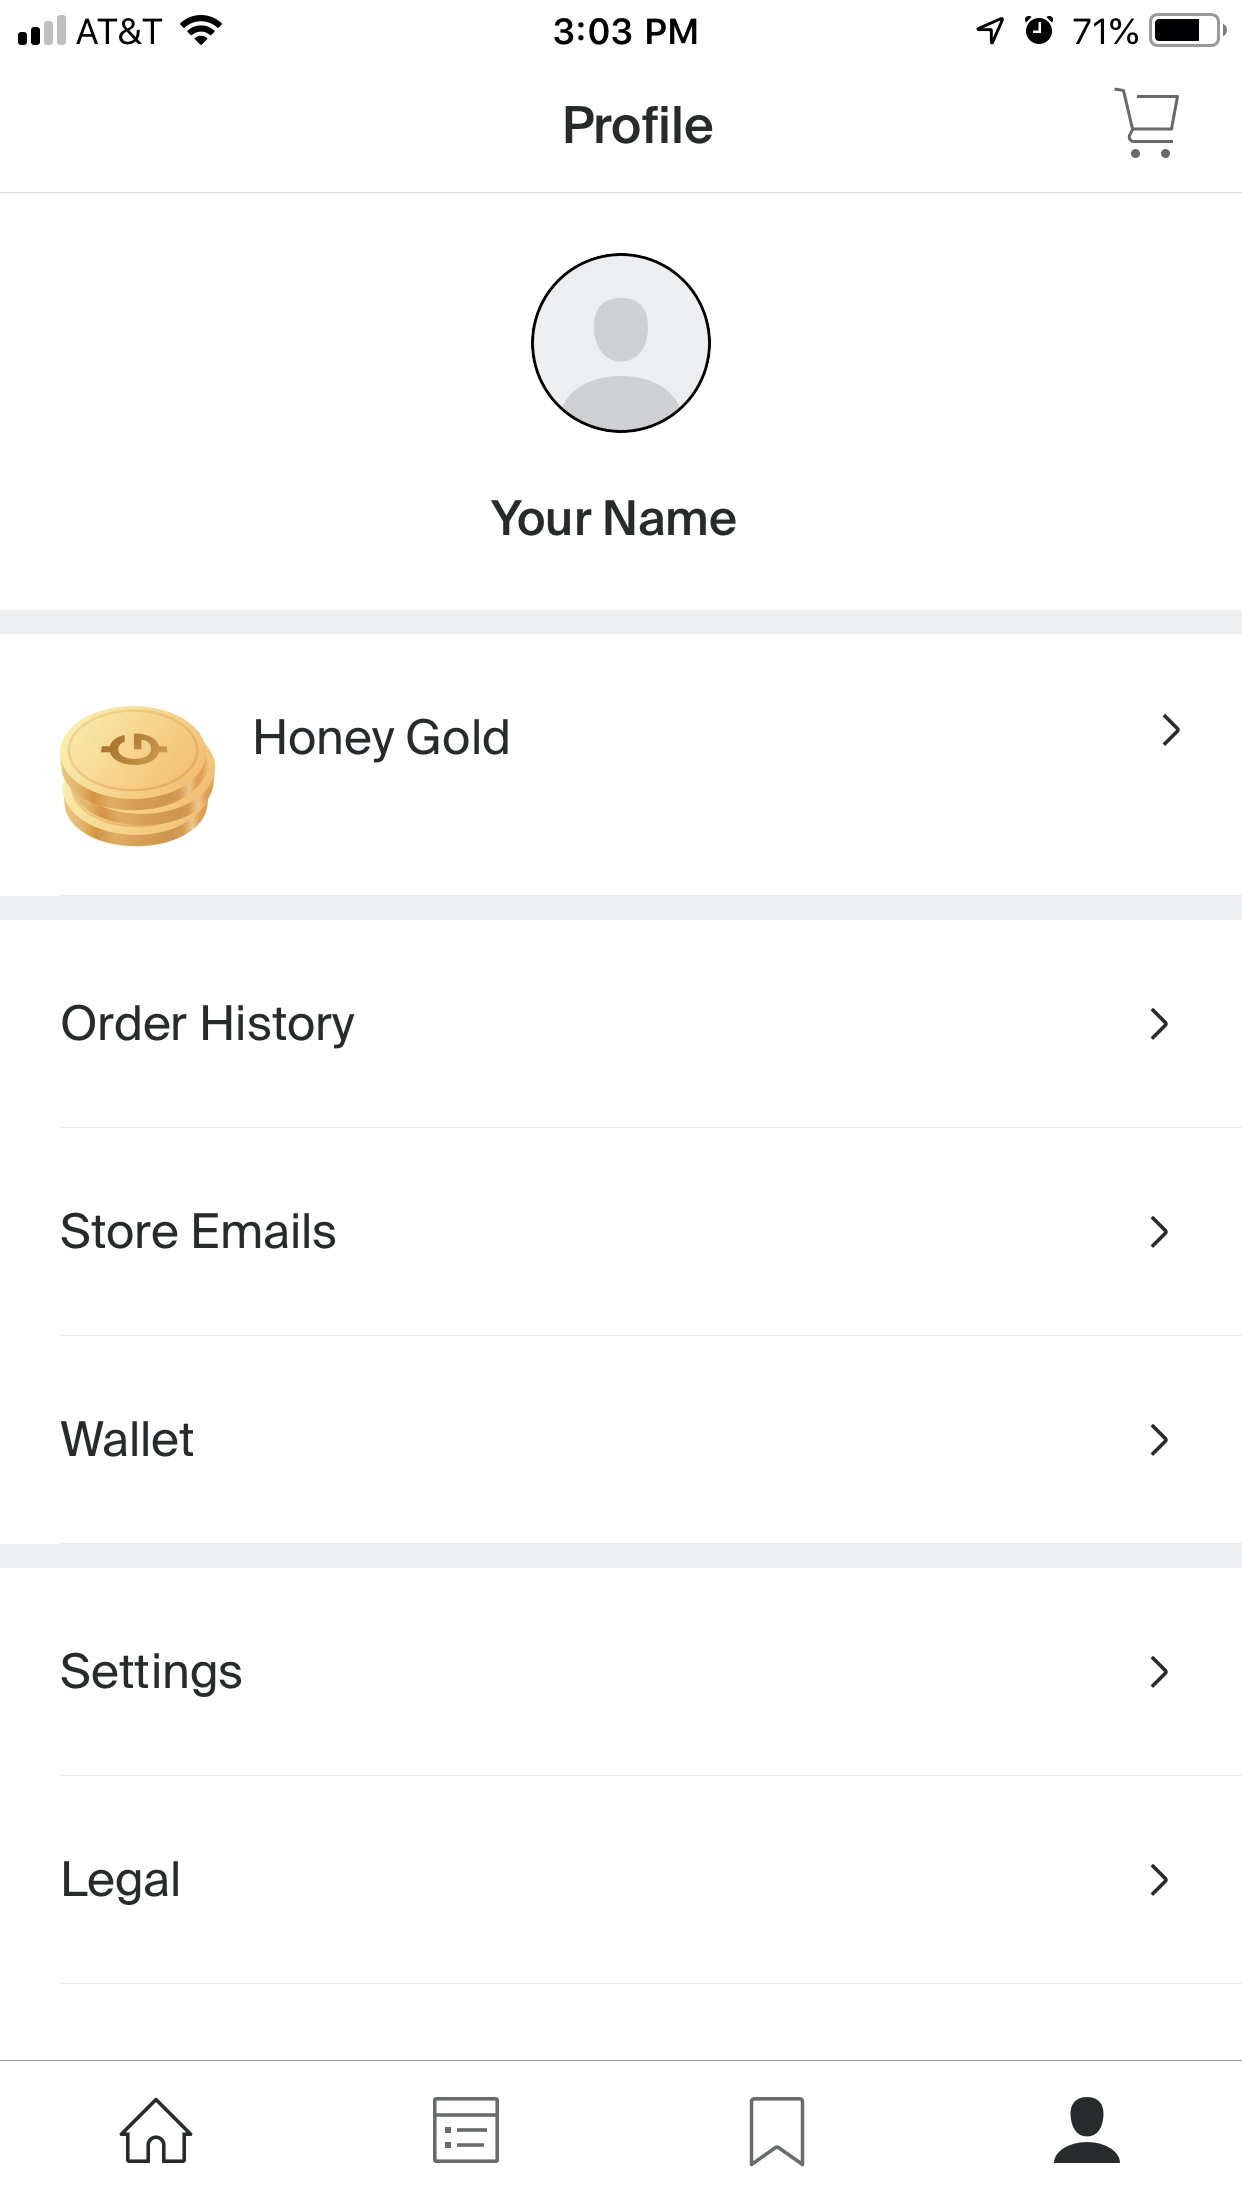Icon: (529, 253, 713, 435), (120, 2096, 196, 2164), (1113, 88, 1180, 161), (432, 2096, 500, 2164), (1054, 2097, 1121, 2164), (749, 2096, 805, 2169), (1162, 714, 1181, 748), (1149, 1007, 1169, 1040), (1149, 1216, 1169, 1250), (1149, 1424, 1169, 1457), (1149, 1656, 1169, 1689), (1149, 1864, 1169, 1897)
Image: (61, 707, 217, 849)
Text: (62, 1004, 356, 1049), (256, 717, 510, 764), (61, 1212, 337, 1250), (490, 499, 737, 538), (62, 1651, 243, 1698), (566, 106, 714, 146), (64, 1861, 180, 1906), (61, 1419, 196, 1457)
UpperTaskBar: (2, 2, 1242, 49)
